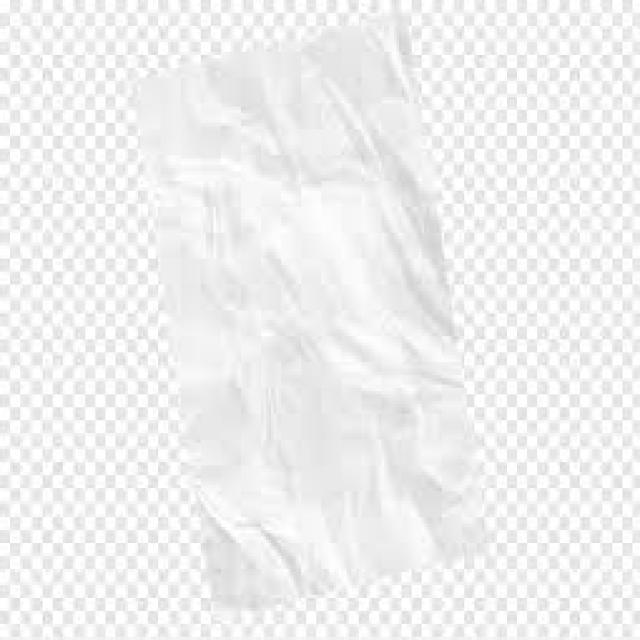paper: (133, 13, 487, 604)
